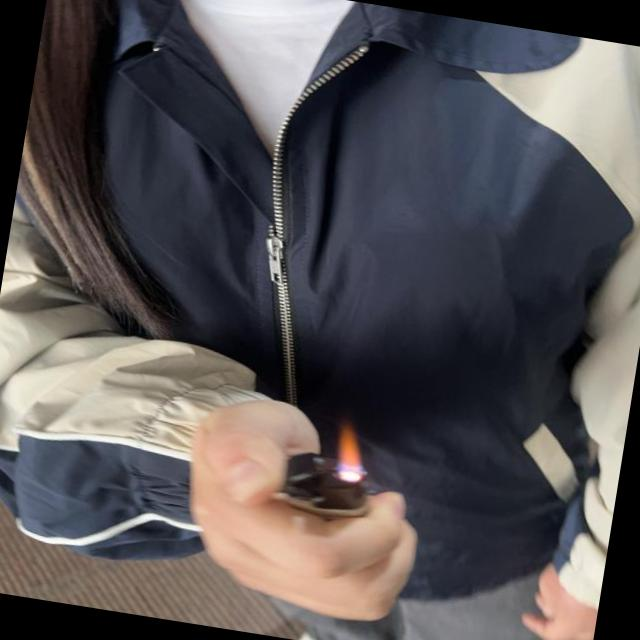Fire: (332, 420, 372, 474)
